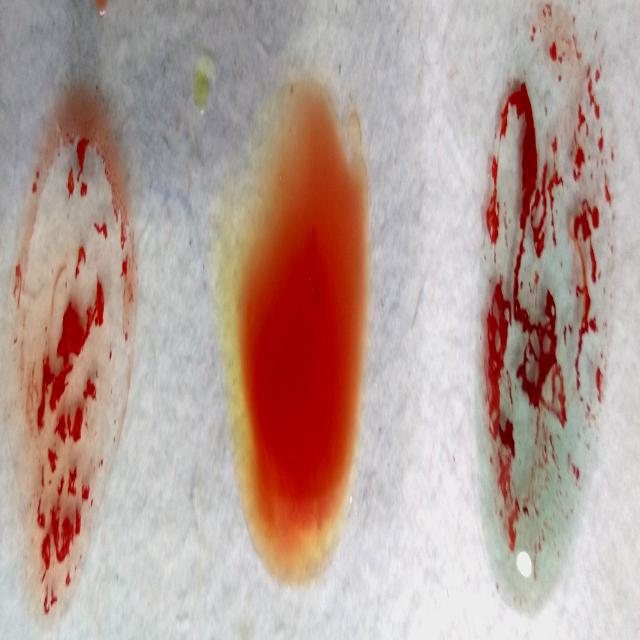A: (486, 2, 614, 594)
D: (8, 61, 136, 605)
